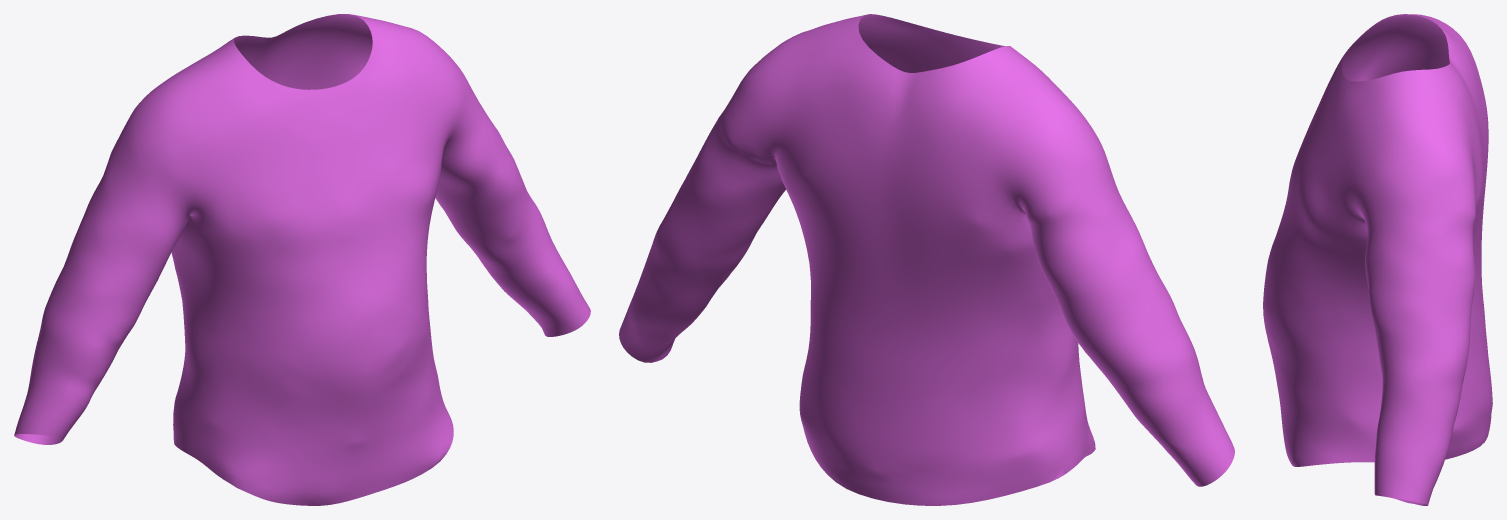
File: Male-X-Large-Shirt.glb
3 renders of one model, left to right at view 1: azimuth 30°, elevation 25°; view 2: azimuth 150°, elevation 25°; view 3: azimuth 270°, elevation 25°, orthographic. The views are drawn at different scales.
Parts seen in each view (by area): view 1: Group1.032; view 2: Group1.032; view 3: Group1.032.
Part boxes in pixels (x1,y1,x2,y2): Group1.032: (14, 14, 590, 505); Group1.032: (619, 14, 1234, 505); Group1.032: (1263, 14, 1492, 505).
Size of the model in its own units: 1.83 by 1.29 by 0.6732.
